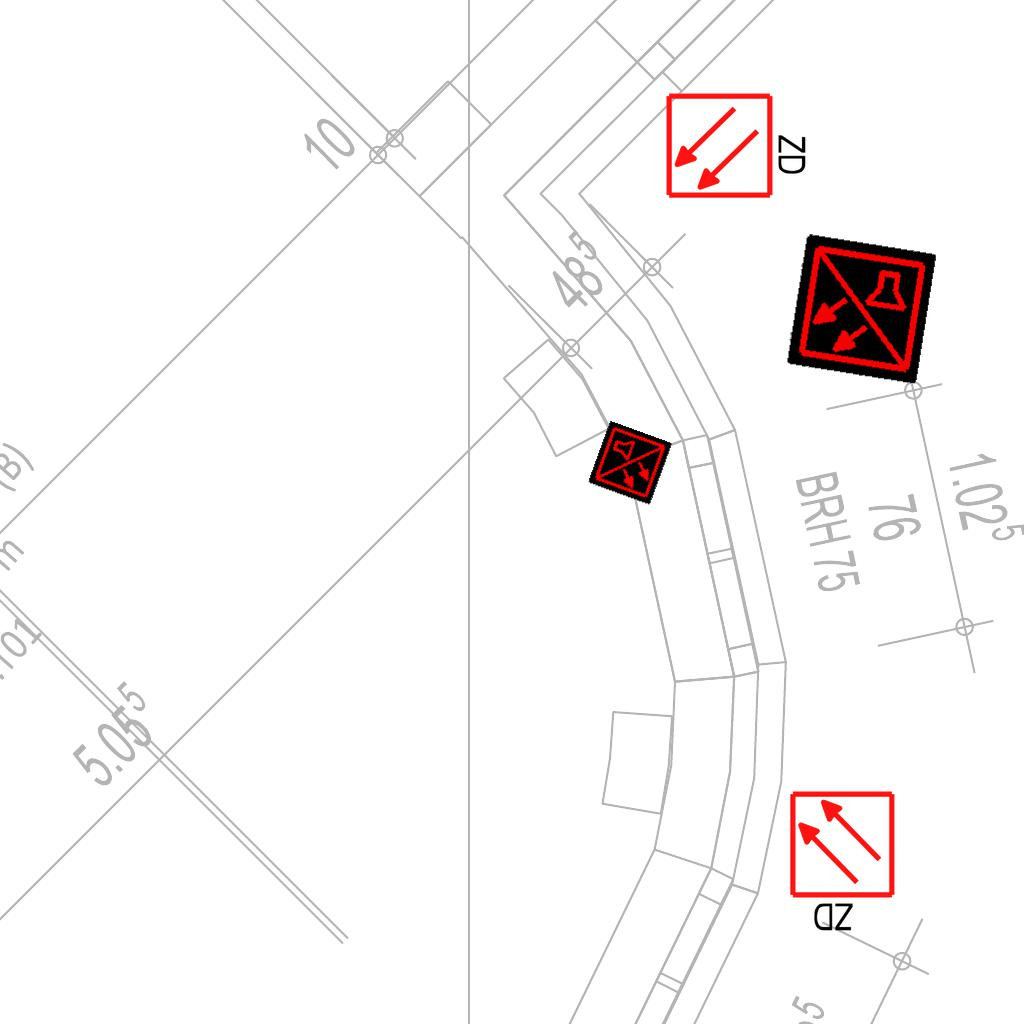OKW_Multisensormelder_(Kombination_optischer_Rauch-Kahlenmonoxid_Waerme-Melder): (785, 233, 937, 385), (587, 420, 673, 506)
ZD_Melder_in_Zwischendecke_mit_Revisionsoeffnung_mind_40_x_40_cm: (664, 87, 813, 201), (787, 789, 901, 938)
